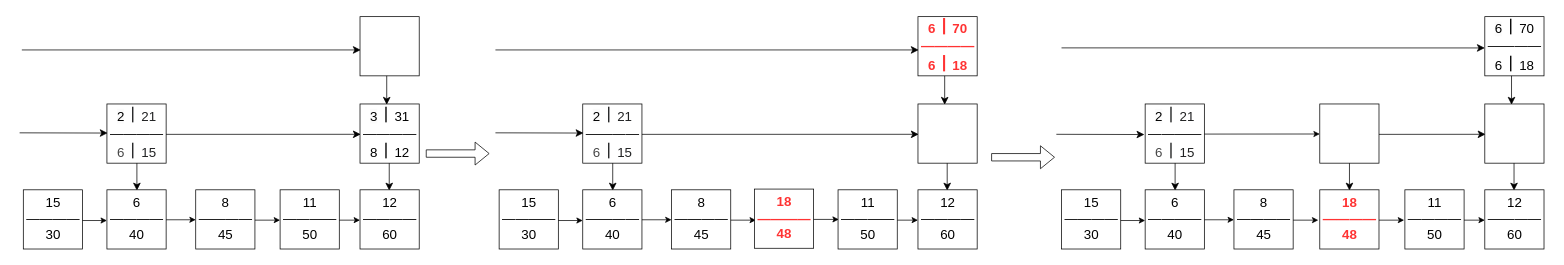
Image size: 1564x265. Some labels were removed from this diagram. The shapes that lost their labels are listed below. From the top down, each one's box as (x1, y1, x2, y2) in pixels, then its label:
(359, 16, 419, 76): 5 丨 52 ———— 6 丨 15
(917, 103, 977, 163): 4 丨 49 ———— 8 丨 18
(1319, 103, 1379, 163): 2 丨 26 ———— 8 丨 1 8
(1484, 103, 1544, 163): 2 丨 23 ———— 11 丨 12
